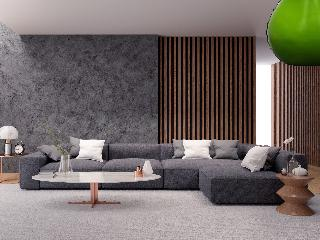pear: (267, 0, 320, 66)
